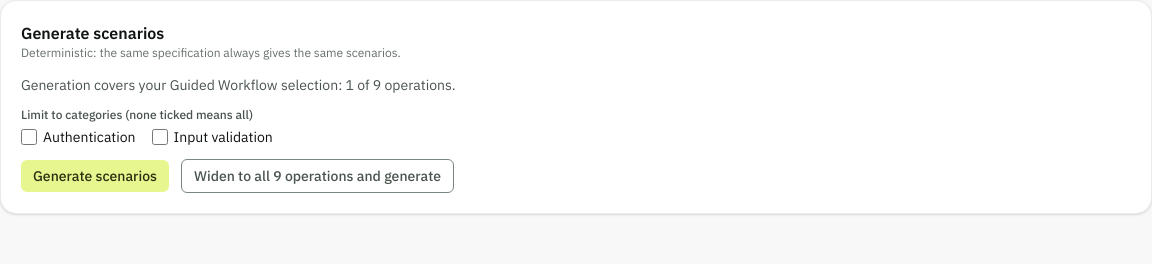
Test: ScopeBanner (T075, FR-004, FR-018) › offers to widen a narrower selection to every operation, and generates for all of them (FR-018)
What coordinates should you click on to do the following:
click the button "Widen to all 9 operations and generate"
I would click on:
 (318, 176)
Its box is [181,159,454,193].
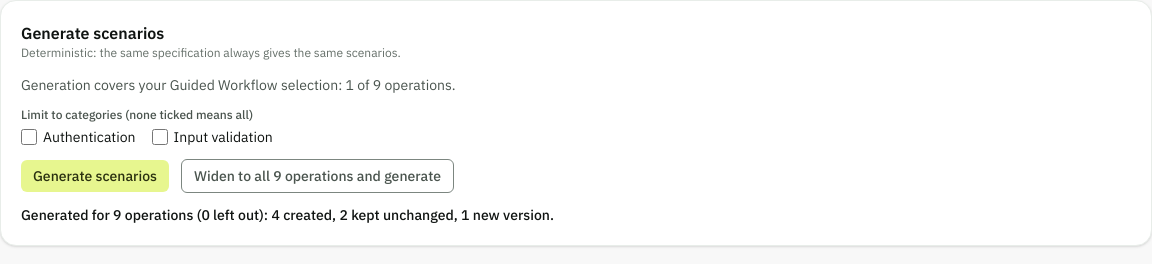
Check: the message shows "Generated for 9 operations (0 left out)", box [21,206,554,224]
